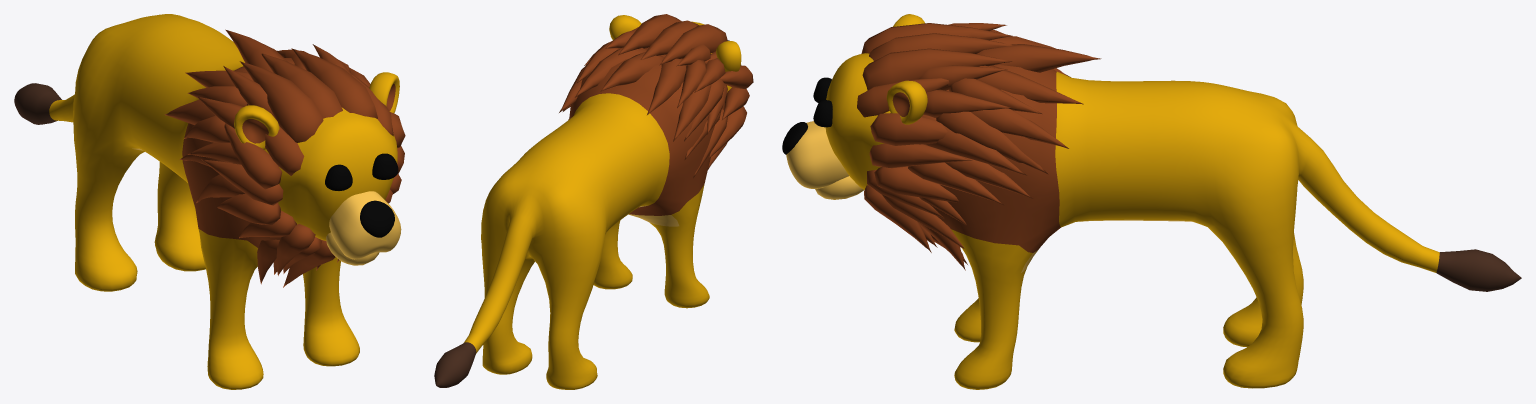
The model's file is Lion.glb.
3 views of the same model, side by side, from view 1: azimuth 30°, elevation 25°; view 2: azimuth 150°, elevation 25°; view 3: azimuth 270°, elevation 25° (orthographic). The views are drawn at different scales.
Visible parts, largest first — view 1: Lion, Eyes_Lion; view 2: Lion; view 3: Lion, Eyes_Lion.
Boxes of the visible parts, bbox=[...] form: Lion: bbox=[14, 14, 405, 389]; Eyes_Lion: bbox=[325, 153, 398, 190]; Lion: bbox=[434, 14, 753, 389]; Lion: bbox=[782, 14, 1521, 389]; Eyes_Lion: bbox=[813, 77, 832, 127].
Size of the model in its own units: 0.5271 by 0.9188 by 1.91.
